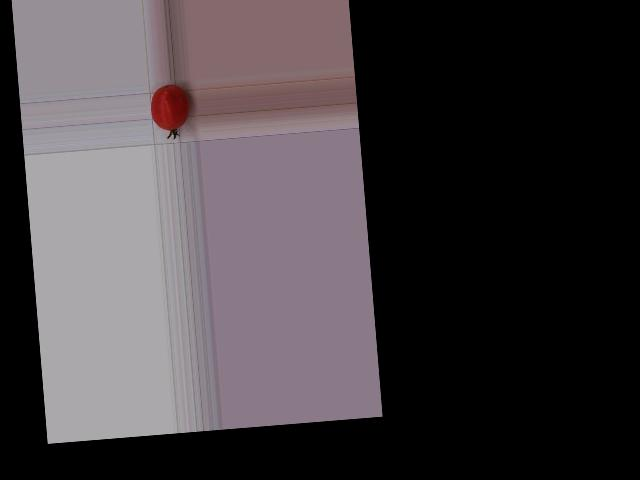tomato: (149, 83, 190, 131)
